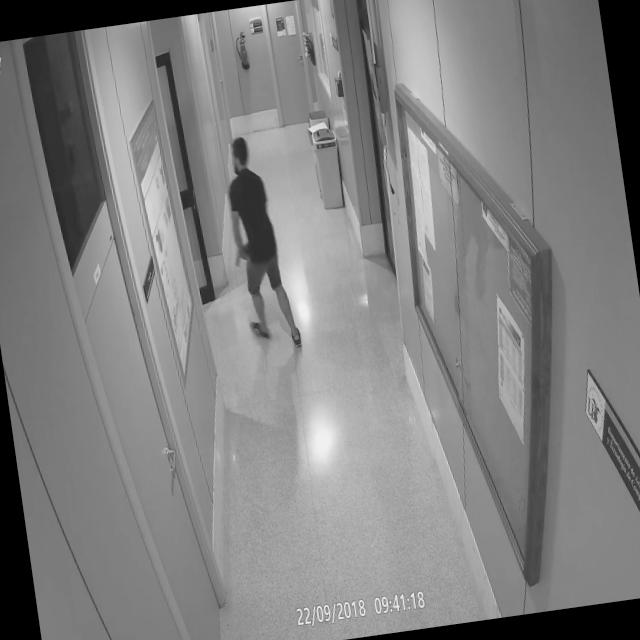gun: (228, 240, 255, 270)
person with a gun: (218, 132, 307, 360)
